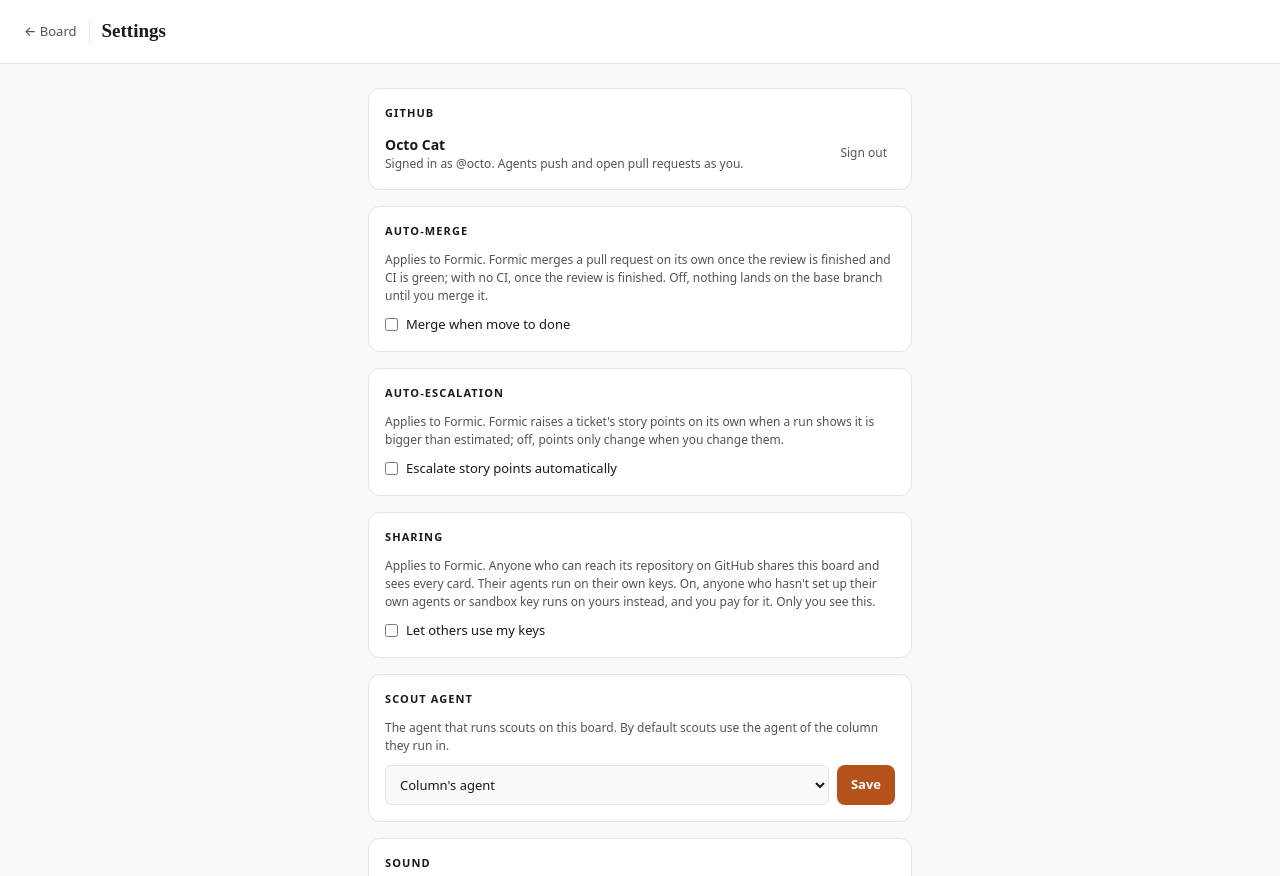
Test: Auto-merge › stays off and says so when the save is refused
Step 1. Click the checkbox labelled "Merge when move to done" → (392, 325), box [385,318,398,331]
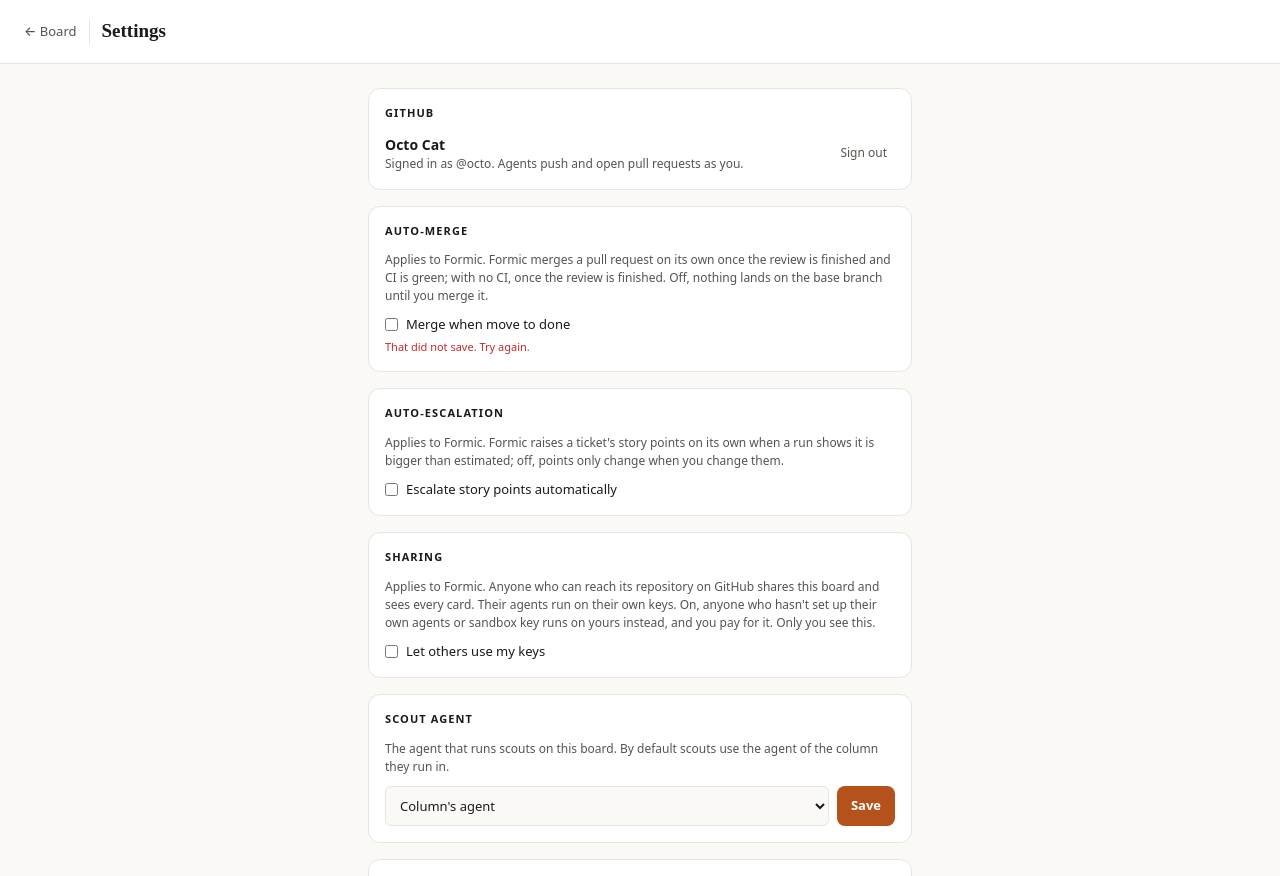
Expected: the text "That did not save. Try again." is shown, [385,338,530,354]
